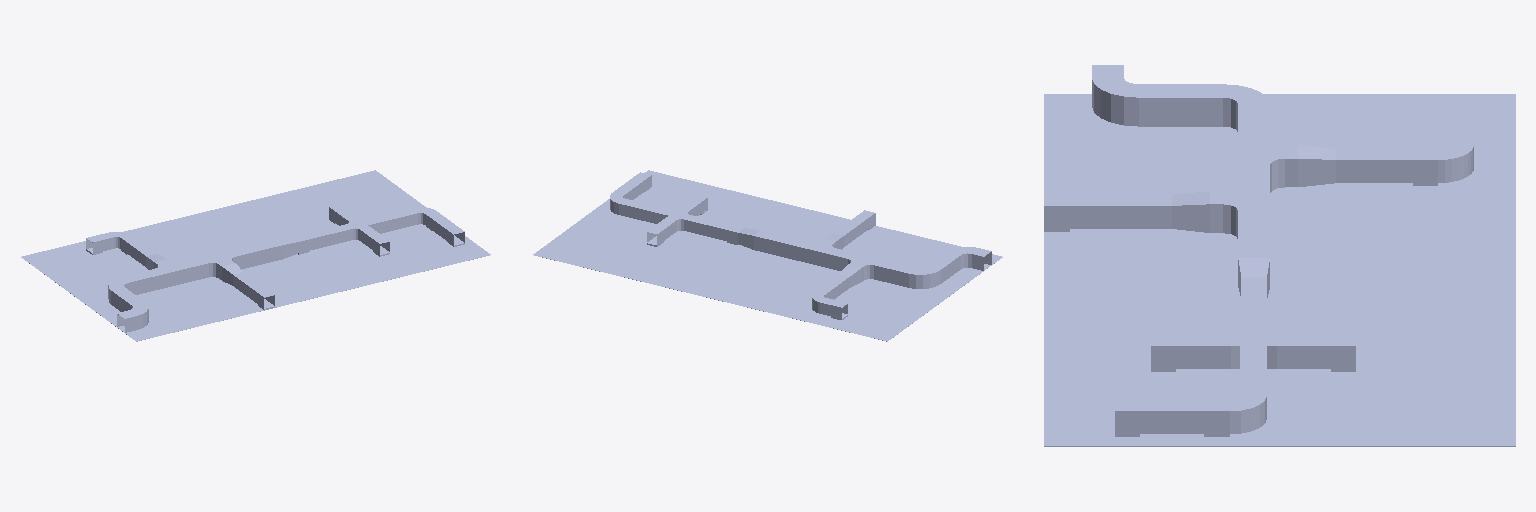
The robot description file, URDF, robot "varPipe":
<?xml version="1.0" encoding="utf-8"?>
<!-- This URDF was automatically created by SolidWorks to URDF Exporter! Originally created by [author] ([email redacted]) 
     Commit Version: 1.5.1-0-g916b5db  Build Version: 1.5.7152.31018
     For more information, please see http://wiki.ros.org/sw_urdf_exporter -->
<robot
  name="varPipe">
  <gazebo reference="base_link">
    <mu1>0.5</mu1>
    <mu2>0.5</mu2>
    <material>Gazebo/Turquoise</material>
  </gazebo> 
    <gazebo reference="pipe_Link">
    <mu1>0.6</mu1>
    <mu2>0.6</mu2>
    <material>Gazebo/GreyTransparent</material>
  </gazebo> 
  <link
    name="base_link">
    <inertial>
      <origin
        xyz="16.343 9.2378 0.005"
        rpy="0 0 0" />
      <mass
        value="6039" />
      <inertia
        ixx="171780"
        ixy="-1.7475E-11"
        ixz="2.5787E-31"
        iyy="537670"
        iyz="-7.5602E-15"
        izz="709450" />
    </inertial>
    <visual>
      <origin
        xyz="0 0 0"
        rpy="0 0 0" />
      <geometry>
        <mesh
          filename="package://varPipe/meshes/base_link.STL" />
      </geometry>
      <material
        name="">
        <color
          rgba="0.79216 0.81961 0.93333 1" />
      </material>
    </visual>
    <collision>
      <origin
        xyz="0 0 0"
        rpy="0 0 0" />
      <geometry>
        <mesh
          filename="package://varPipe/meshes/base_link.STL" />
      </geometry>
    </collision>
  </link>
  <link
    name="pipe_Link">
    <inertial>
      <origin
        xyz="16.354 6.0884 0.46491"
        rpy="0 0 0" />
      <mass
        value="3952.9" />
      <inertia
        ixx="10647"
        ixy="-4677.5"
        ixz="-2.6807E-12"
        iyy="45036"
        iyz="-4.708E-12"
        izz="54498" />
    </inertial>
    <visual>
      <origin
        xyz="0 0 0"
        rpy="0 0 0" />
      <geometry>
        <mesh
          filename="package://varPipe/meshes/pipe_Link.STL" />
      </geometry>
      <material
        name="">
        <color
          rgba="0.79216 0.81961 0.93333 1" />
      </material>
    </visual>
    <collision>
      <origin
        xyz="0 0 0"
        rpy="0 0 0" />
      <geometry>
        <mesh
          filename="package://varPipe/meshes/pipe_Link.STL" />
      </geometry>
    </collision>
  </link>
  <joint
    name="pipe_joint"
    type="fixed">
    <origin
      xyz="0 1.8574 0.01"
      rpy="0 0 0" />
    <parent
      link="base_link" />
    <child
      link="pipe_Link" />
    <axis
      xyz="0 0 0" />
  </joint>
</robot>

--- What the picture shows (computed from the rendered views, not written in the file) ---
Views: 3 orthographic renders of the robot side by side, from view 1: azimuth 30°, elevation 25°; view 2: azimuth 150°, elevation 25°; view 3: azimuth 270°, elevation 25°.
Robot: varPipe — 2 links, 1 joints (1 fixed); root link base_link; default pose: all joints at 0.
Visible links, largest first — view 1: base_link, pipe_Link; view 2: base_link, pipe_Link; view 3: base_link, pipe_Link.
Link boxes in pixels (x1=…): base_link: x1=21, y1=170, x2=490, y2=341; pipe_Link: x1=86, y1=204, x2=464, y2=332; base_link: x1=533, y1=170, x2=1002, y2=341; pipe_Link: x1=610, y1=172, x2=991, y2=319; base_link: x1=1044, y1=94, x2=1515, y2=446; pipe_Link: x1=1044, y1=65, x2=1473, y2=436.
Bounding box of the posed robot: 32.69 × 18.48 × 1.26 m (x, y, z).
2 mesh visuals loaded from 2 distinct referenced files (2 binary STL).